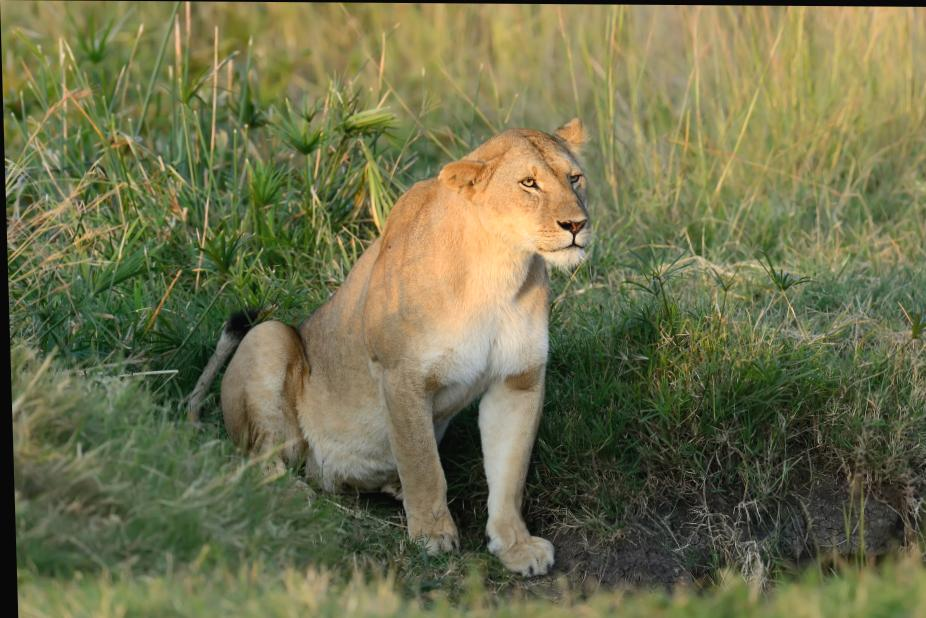lioness: (181, 114, 599, 577)
